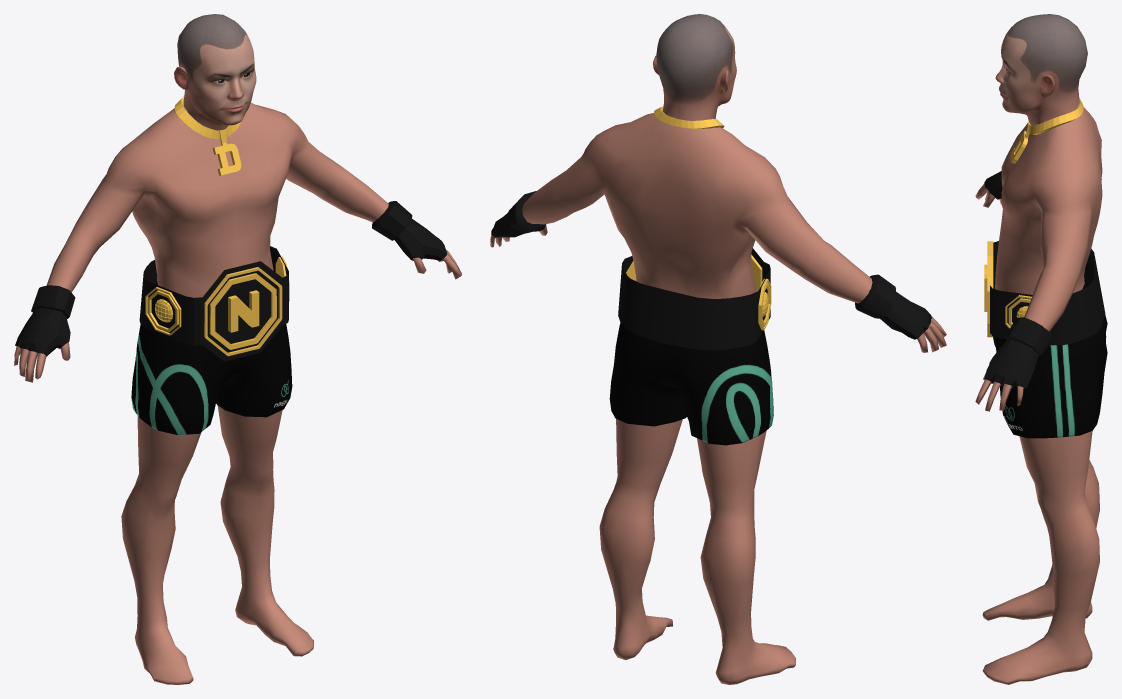
The model's file is Dwynn-kickboxer.glb.
The picture shows the model from 3 angles, left to right: view 1: azimuth 30°, elevation 25°; view 2: azimuth 150°, elevation 25°; view 3: azimuth 270°, elevation 25°; orthographic projection. The views are drawn at different scales.
Visible parts, largest first — view 1: BSurfaceMesh, Cube.001, Wolf3D_Head.004, Cube.002, BSurfaceMesh.001, Cylinder.002, Cylinder.003, Plane.001, Cylinder.001; view 2: BSurfaceMesh, Cube.001, Cube.002, Wolf3D_Head.004, BSurfaceMesh.001; view 3: BSurfaceMesh, Cube.001, Wolf3D_Head.004, Cube.002, BSurfaceMesh.001, Cylinder.001, Cylinder.002, Cylinder.003, Plane.
Boxes of the visible parts, <box> form: BSurfaceMesh: <box>14,102,461,684</box>; Cube.001: <box>131,282,292,434</box>; Wolf3D_Head.004: <box>174,14,256,130</box>; Cube.002: <box>139,246,288,361</box>; BSurfaceMesh.001: <box>15,201,447,356</box>; Cylinder.002: <box>204,267,282,356</box>; Cylinder.003: <box>145,256,289,335</box>; Plane.001: <box>228,290,259,332</box>; Cylinder.001: <box>174,96,240,139</box>; BSurfaceMesh: <box>490,113,946,684</box>; Cube.001: <box>609,323,773,445</box>; Cube.002: <box>618,248,770,350</box>; Wolf3D_Head.004: <box>653,14,736,120</box>; BSurfaceMesh.001: <box>491,191,931,339</box>; BSurfaceMesh: <box>975,107,1102,684</box>; Cube.001: <box>993,268,1107,438</box>; Wolf3D_Head.004: <box>995,14,1087,125</box>; Cube.002: <box>990,241,1105,345</box>; BSurfaceMesh.001: <box>984,171,1053,389</box>; Cylinder.001: <box>1029,98,1083,134</box>; Cylinder.002: <box>987,241,993,337</box>; Cylinder.003: <box>1005,295,1031,328</box>; Plane: <box>1010,131,1027,163</box>.
Bounding box in the file's own units: 1.3 × 1.79 × 0.3408.
7 materials, 5 textured.
